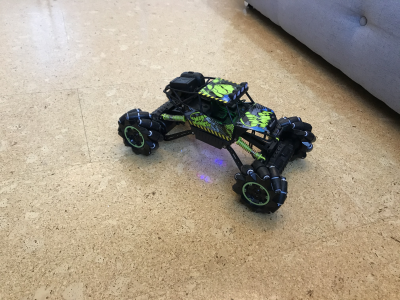remote control car: (113, 63, 318, 216)
